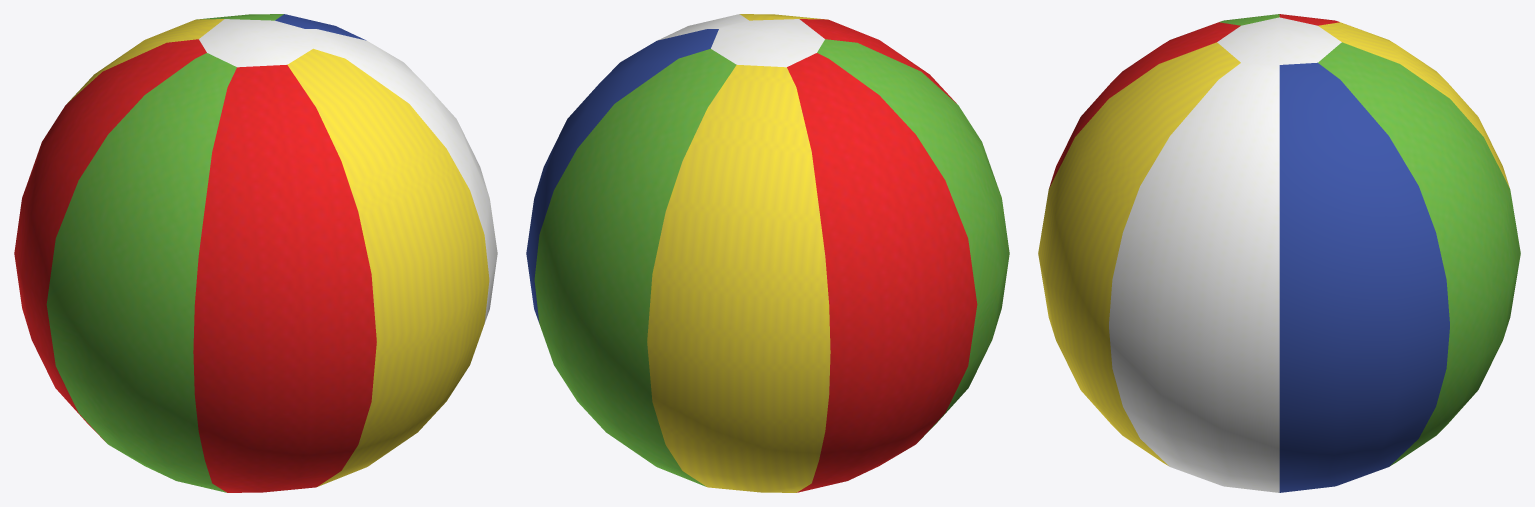
Rendered from BeachBall.fbx.
3 views of the same model, side by side, from view 1: azimuth 30°, elevation 25°; view 2: azimuth 150°, elevation 25°; view 3: azimuth 270°, elevation 25° (orthographic).
Visible parts, largest first — view 1: Ball; view 2: Ball; view 3: Ball.
Part boxes in pixels (bbox=[...]): Ball: bbox=[14, 14, 497, 492]; Ball: bbox=[526, 14, 1009, 492]; Ball: bbox=[1038, 14, 1520, 492].
Size of the model in its own units: 41.51 by 41.51 by 41.51.
1 material, 1 textured.
